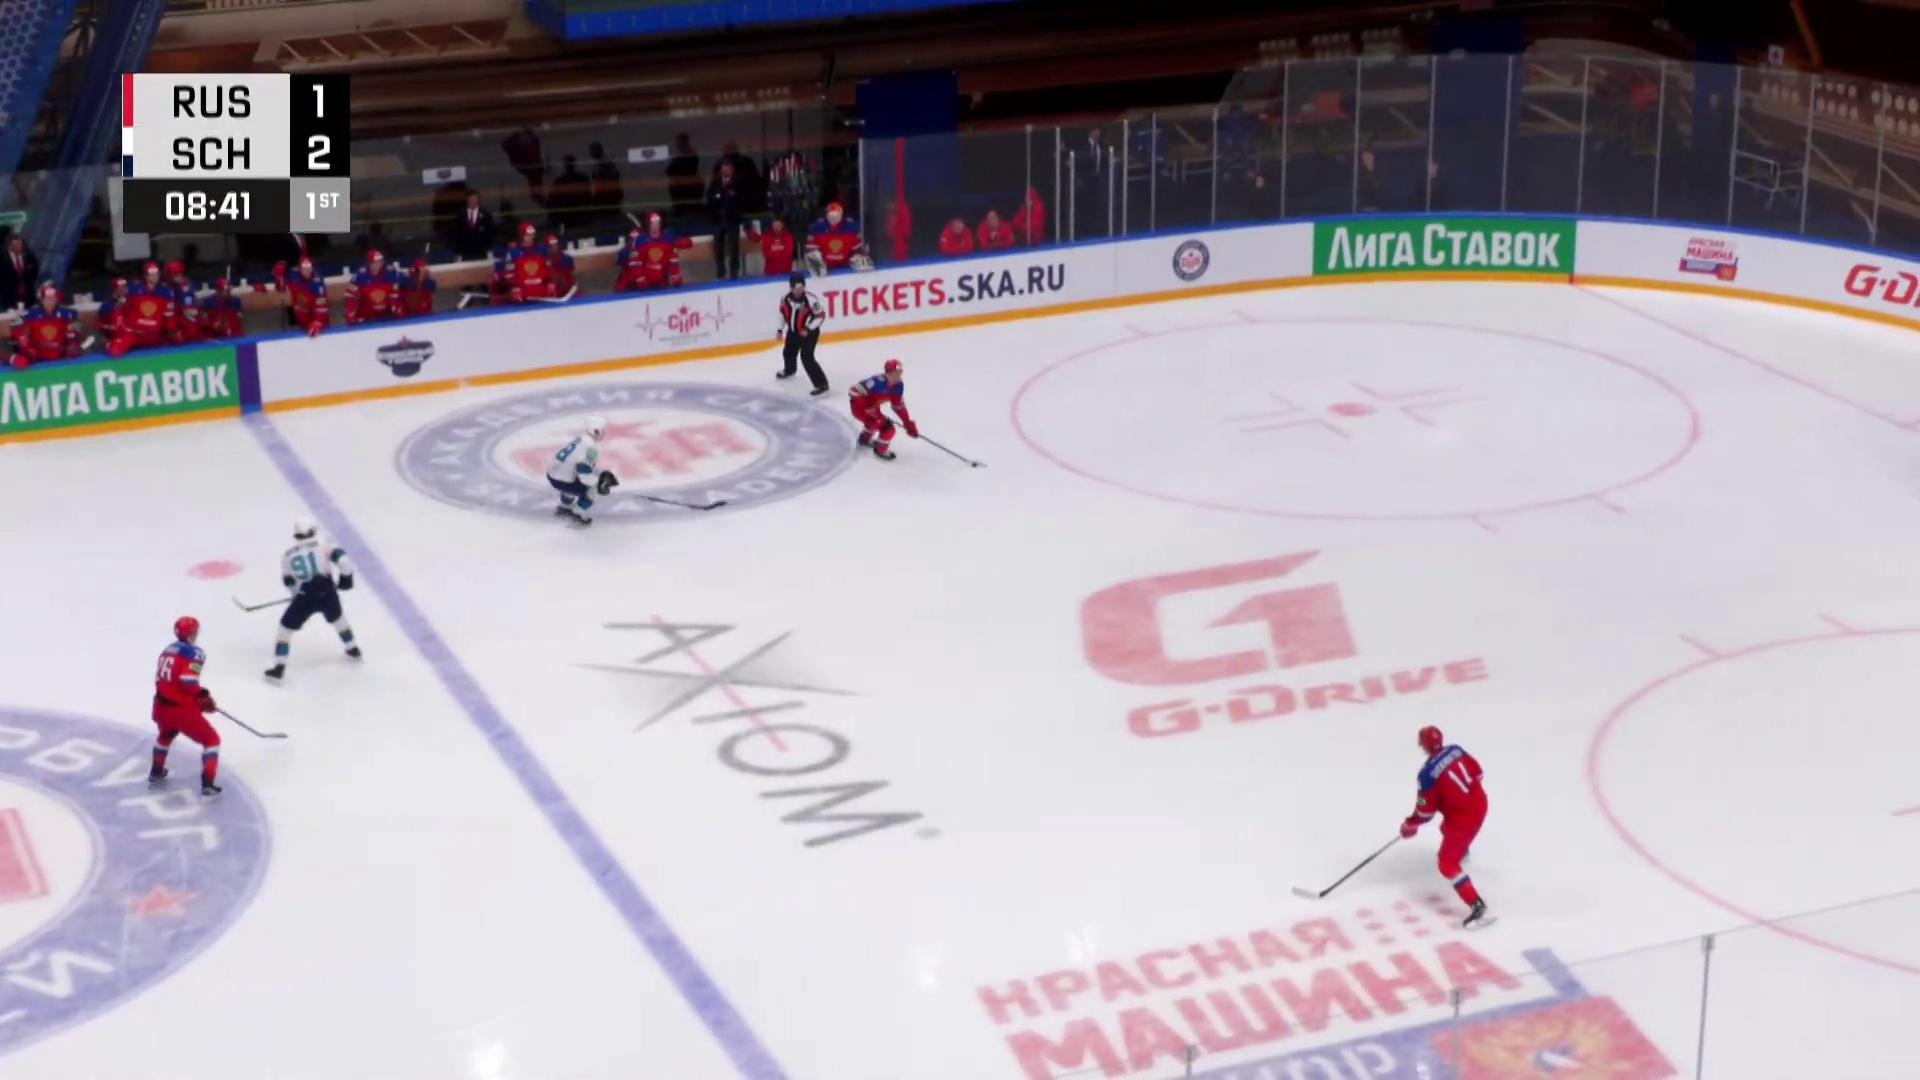ball: (971, 462, 978, 468)
